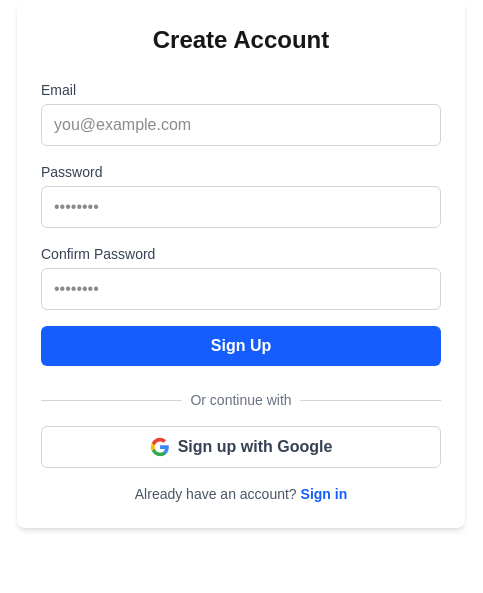
Test: RegisterForm › Password Strength Indicator › should show medium strength for 12-15 char password meeting all requirements
The image size is (483, 593).
Type "Password123!" into the password field labelled "Password" at (241, 207), box [41, 186, 441, 228]
Wait 300 ms
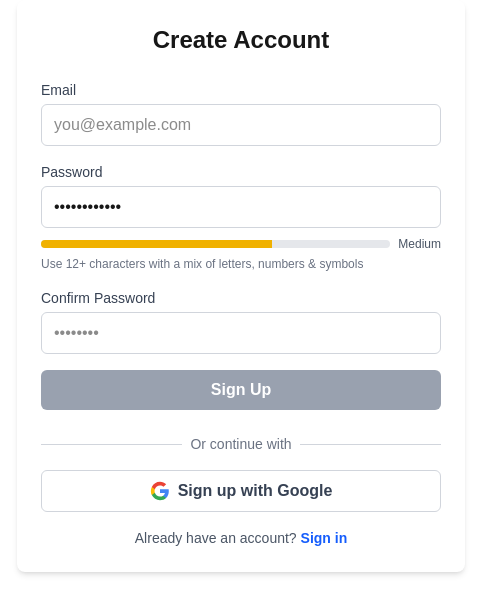
Now the text "Medium" is shown, box [398, 236, 441, 252]
